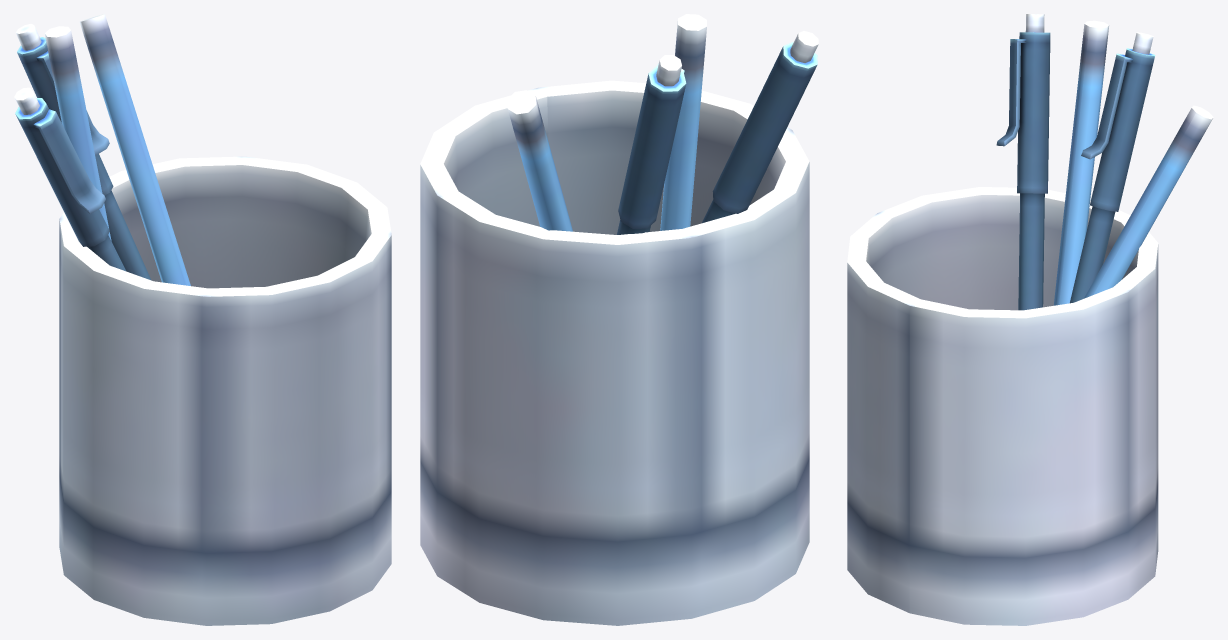
The model's file is obj_pencil.gltf.
3 views of the same model, side by side, from view 1: azimuth 30°, elevation 25°; view 2: azimuth 150°, elevation 25°; view 3: azimuth 270°, elevation 25° (orthographic). The views are drawn at different scales.
Visible parts, largest first — view 1: obj_pencil; view 2: obj_pencil; view 3: obj_pencil.
Part boxes in pixels (x1,y1,x2,y2): obj_pencil: [14, 14, 391, 625]; obj_pencil: [420, 14, 818, 625]; obj_pencil: [847, 14, 1213, 625].
Size of what is drawn, in the model's own units: 0.2117 by 0.3113 by 0.2136.
1 material, 1 textured.
